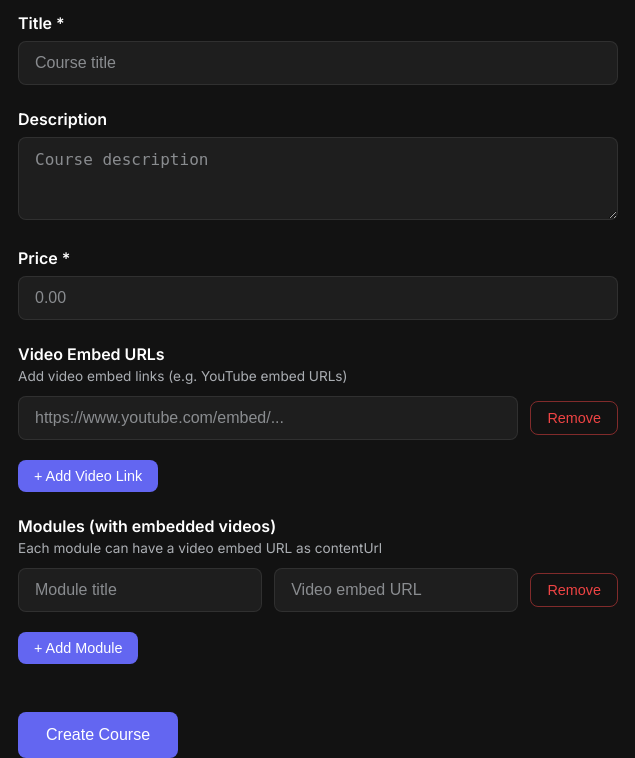
Test: CreateCourse component › removes a module row when its Remove is clicked
This screenshot has width=635, height=758.
(page scrolled)
Note: Start: 1 module row. Add one more → 2 rows.
Click the button "+ Add Module".
click(78, 648)  # box [18, 632, 138, 664]
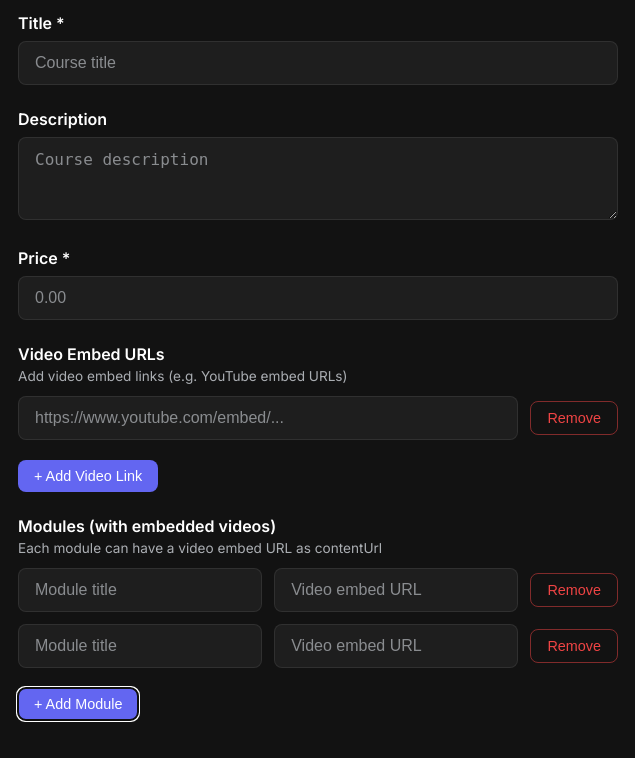
Expected: the number of fields with placeholder "Module title" is 2, [18, 568, 262, 612]; [18, 624, 262, 668]
Click the 3rd button "Remove".
click(574, 646)  # box [530, 629, 618, 663]
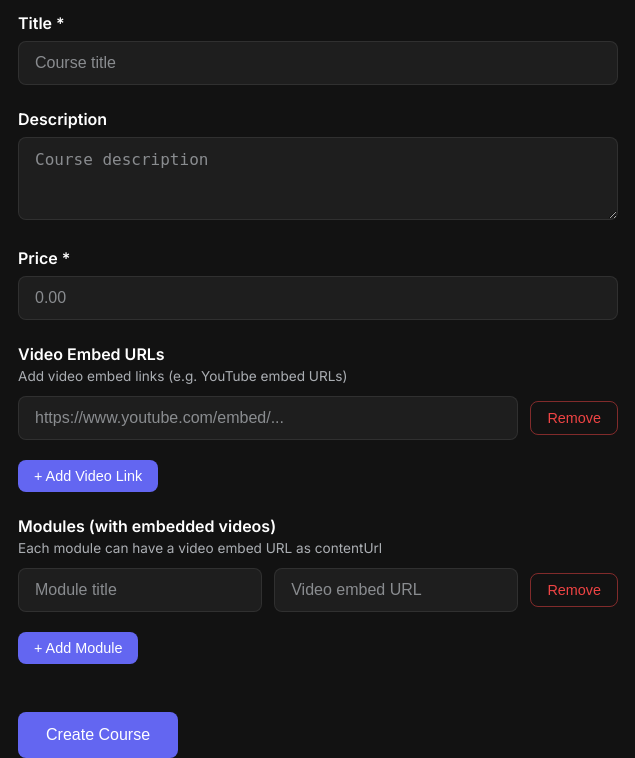
Expected: the number of fields with placeholder "Module title" is 1, [18, 568, 262, 612]
